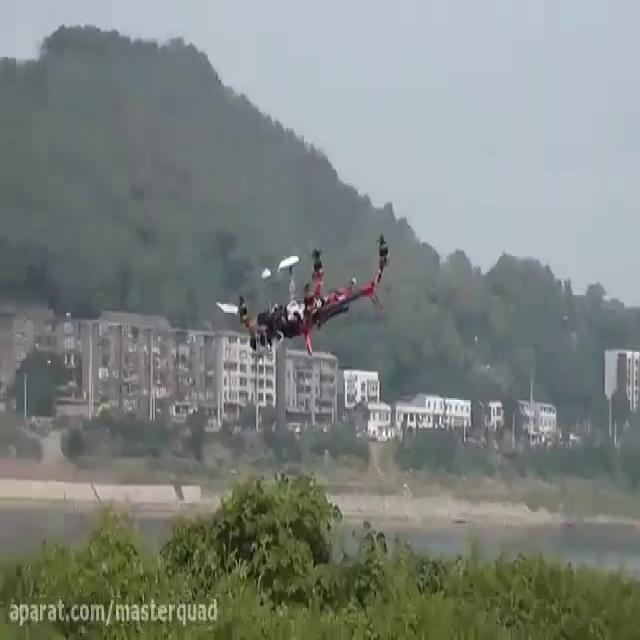drone: (233, 222, 391, 359)
